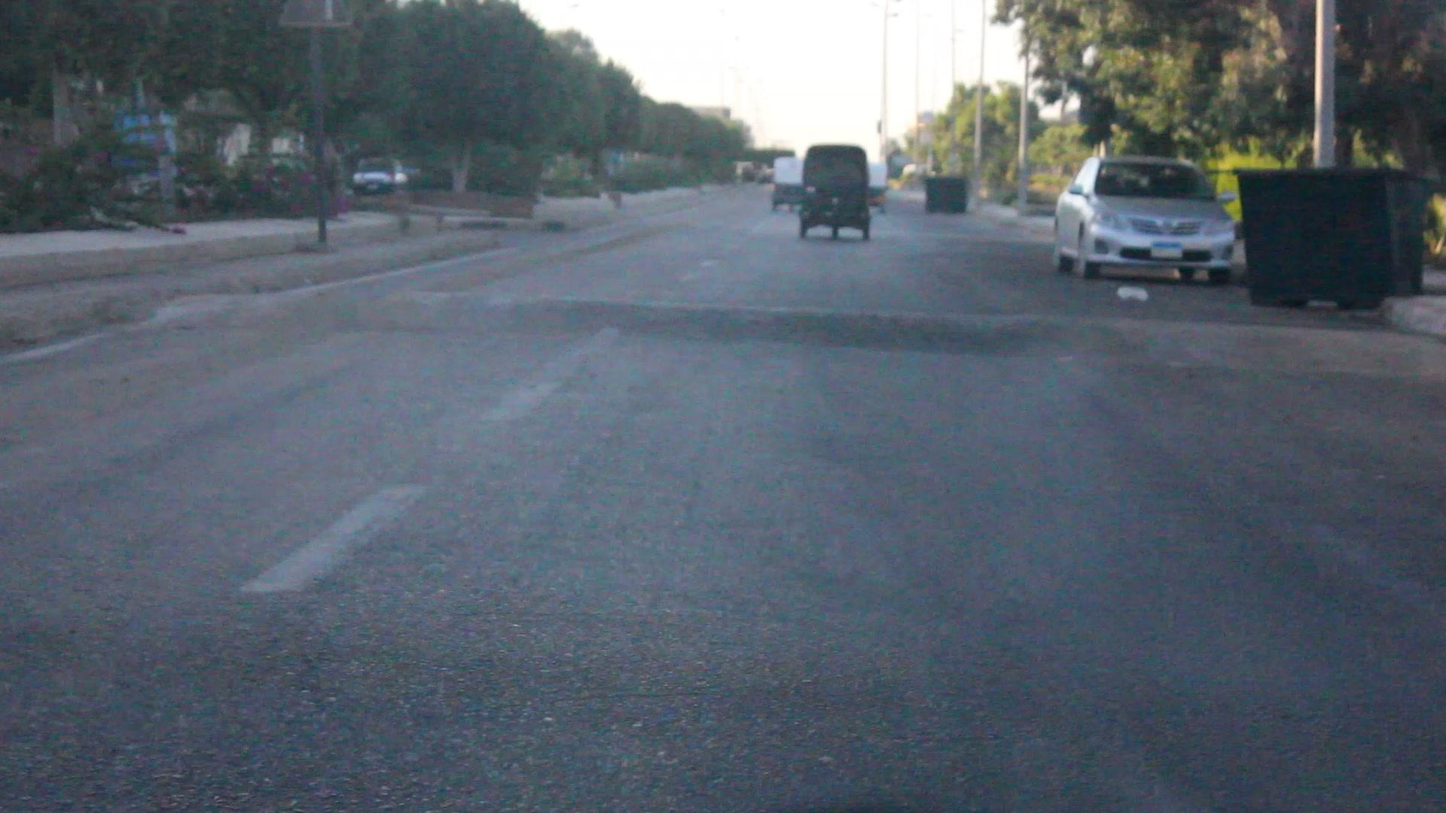Bump: (139, 298, 1445, 370)
